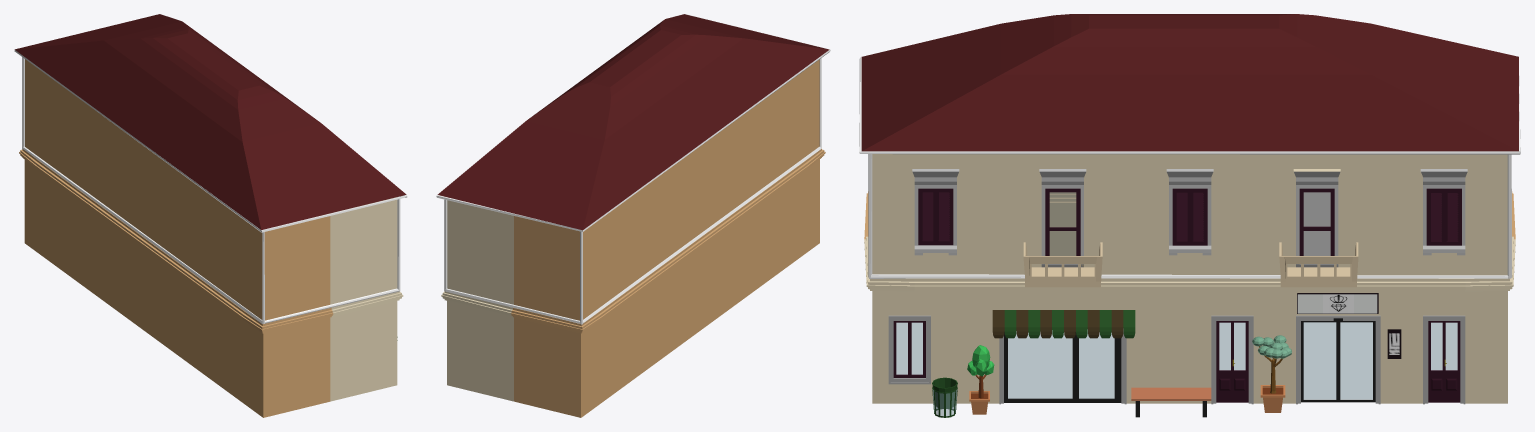
Rendered from townhouse_01.glb.
3 renders of one model, left to right at view 1: azimuth 30°, elevation 25°; view 2: azimuth 150°, elevation 25°; view 3: azimuth 270°, elevation 25°, orthographic. The views are drawn at different scales.
Parts seen in each view (by area): view 1: HH.002_Colore_0, Tetto.007_Colore_0, Tubes.002__0; view 2: HH.002_Colore_0, Tetto.007_Colore_0, Tubes.002__0; view 3: HH.002_Colore_0, Tetto.007_Colore_0, HH.002_Vetro_0, Tubes.002__0, Tenda.005_Colore_0, Balcone2.002_Colore_0, Balcone.002_Colore_0, Persiane.008_Colore_0, Persiane.007_Colore_0, Persiane.006_Colore_0, Ice Cream Sign.003_Colore_0, Bench.021_Colore_0 (+4 smaller).
Boxes of the visible parts, bbox=[...] form: HH.002_Colore_0: bbox=[19, 59, 403, 417]; Tetto.007_Colore_0: bbox=[14, 14, 406, 229]; Tubes.002__0: bbox=[14, 50, 407, 323]; HH.002_Colore_0: bbox=[441, 59, 825, 417]; Tetto.007_Colore_0: bbox=[437, 14, 829, 230]; Tubes.002__0: bbox=[436, 14, 830, 324]; HH.002_Colore_0: bbox=[864, 154, 1515, 404]; Tetto.007_Colore_0: bbox=[861, 14, 1518, 151]; HH.002_Vetro_0: bbox=[896, 192, 1457, 399]; Tubes.002__0: bbox=[859, 57, 1520, 278]; Tenda.005_Colore_0: bbox=[992, 310, 1135, 338]; Balcone2.002_Colore_0: bbox=[1279, 242, 1358, 287]; Balcone.002_Colore_0: bbox=[1023, 242, 1102, 287]; Persiane.008_Colore_0: bbox=[1426, 188, 1461, 245]; Persiane.007_Colore_0: bbox=[1172, 188, 1207, 245]; Persiane.006_Colore_0: bbox=[918, 188, 953, 245]; Ice Cream Sign.003_Colore_0: bbox=[1297, 293, 1401, 358]; Bench.021_Colore_0: bbox=[1131, 387, 1211, 417].
Size of the model in its own units: 1.69 by 2.43 by 4.31.
4 materials, 2 textured.
